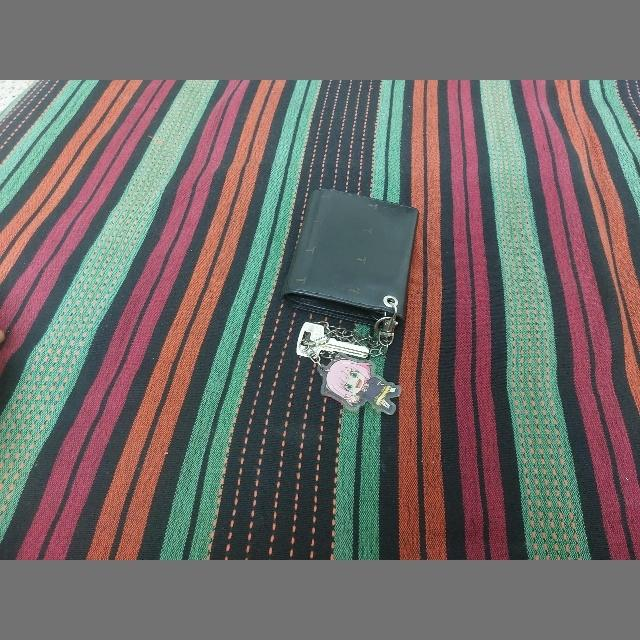Keys: (296, 322, 370, 360)
Wallet: (280, 188, 420, 329)
